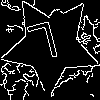L: (25, 20, 64, 72)
